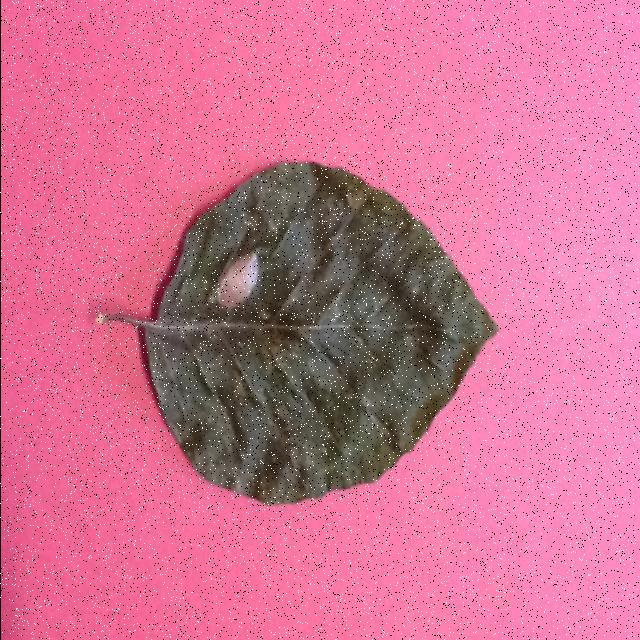foliage: (91, 158, 502, 504)
